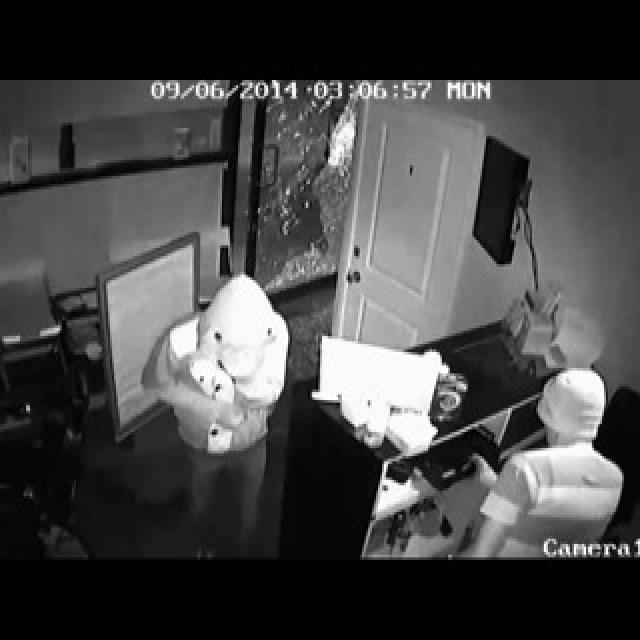thief: (166, 270, 289, 467), (496, 368, 607, 560)
